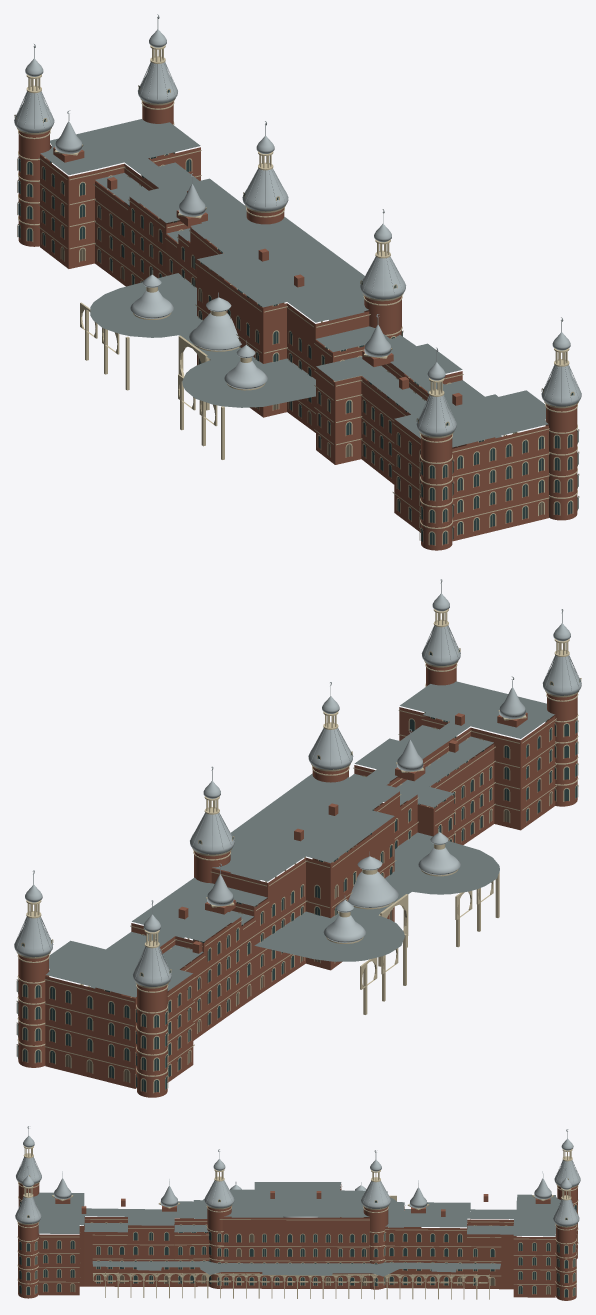
The model's file is plant-hall-tampa-near.glb.
3 views of the same model, one above another, from view 1: azimuth 30°, elevation 25°; view 2: azimuth 150°, elevation 25°; view 3: azimuth 270°, elevation 25° (orthographic). The views are drawn at different scales.
Visible parts, largest first — view 1: plant-hall-tampa-0-brick, plant-hall-tampa-0-roof, plant-hall-tampa-0-trim, plant-hall-tampa-0-silver, plant-hall-tampa-0-glass; view 2: plant-hall-tampa-0-brick, plant-hall-tampa-0-roof, plant-hall-tampa-0-trim, plant-hall-tampa-0-silver, plant-hall-tampa-0-glass; view 3: plant-hall-tampa-0-brick, plant-hall-tampa-0-roof, plant-hall-tampa-0-trim, plant-hall-tampa-0-silver, plant-hall-tampa-0-glass, plant-hall-tampa-0-glow.
Boxes of the visible parts, x1,y1,x2,y2 form: plant-hall-tampa-0-brick: (18,101,577,550); plant-hall-tampa-0-roof: (40,119,548,447); plant-hall-tampa-0-trim: (14,45,579,545); plant-hall-tampa-0-silver: (14,14,581,436); plant-hall-tampa-0-glass: (15,86,578,544); plant-hall-tampa-0-brick: (18,664,577,1097); plant-hall-tampa-0-roof: (46,681,554,997); plant-hall-tampa-0-trim: (16,609,581,1093); plant-hall-tampa-0-silver: (14,579,581,986); plant-hall-tampa-0-glass: (17,649,580,1092); plant-hall-tampa-0-brick: (18,1183,577,1300); plant-hall-tampa-0-roof: (33,1182,560,1276); plant-hall-tampa-0-trim: (17,1146,578,1299); plant-hall-tampa-0-silver: (15,1126,580,1226); plant-hall-tampa-0-glass: (19,1179,576,1297); plant-hall-tampa-0-glow: (70,1234,550,1294).
Bounding box in the file's own units: 50.6 × 41.7 × 160.
